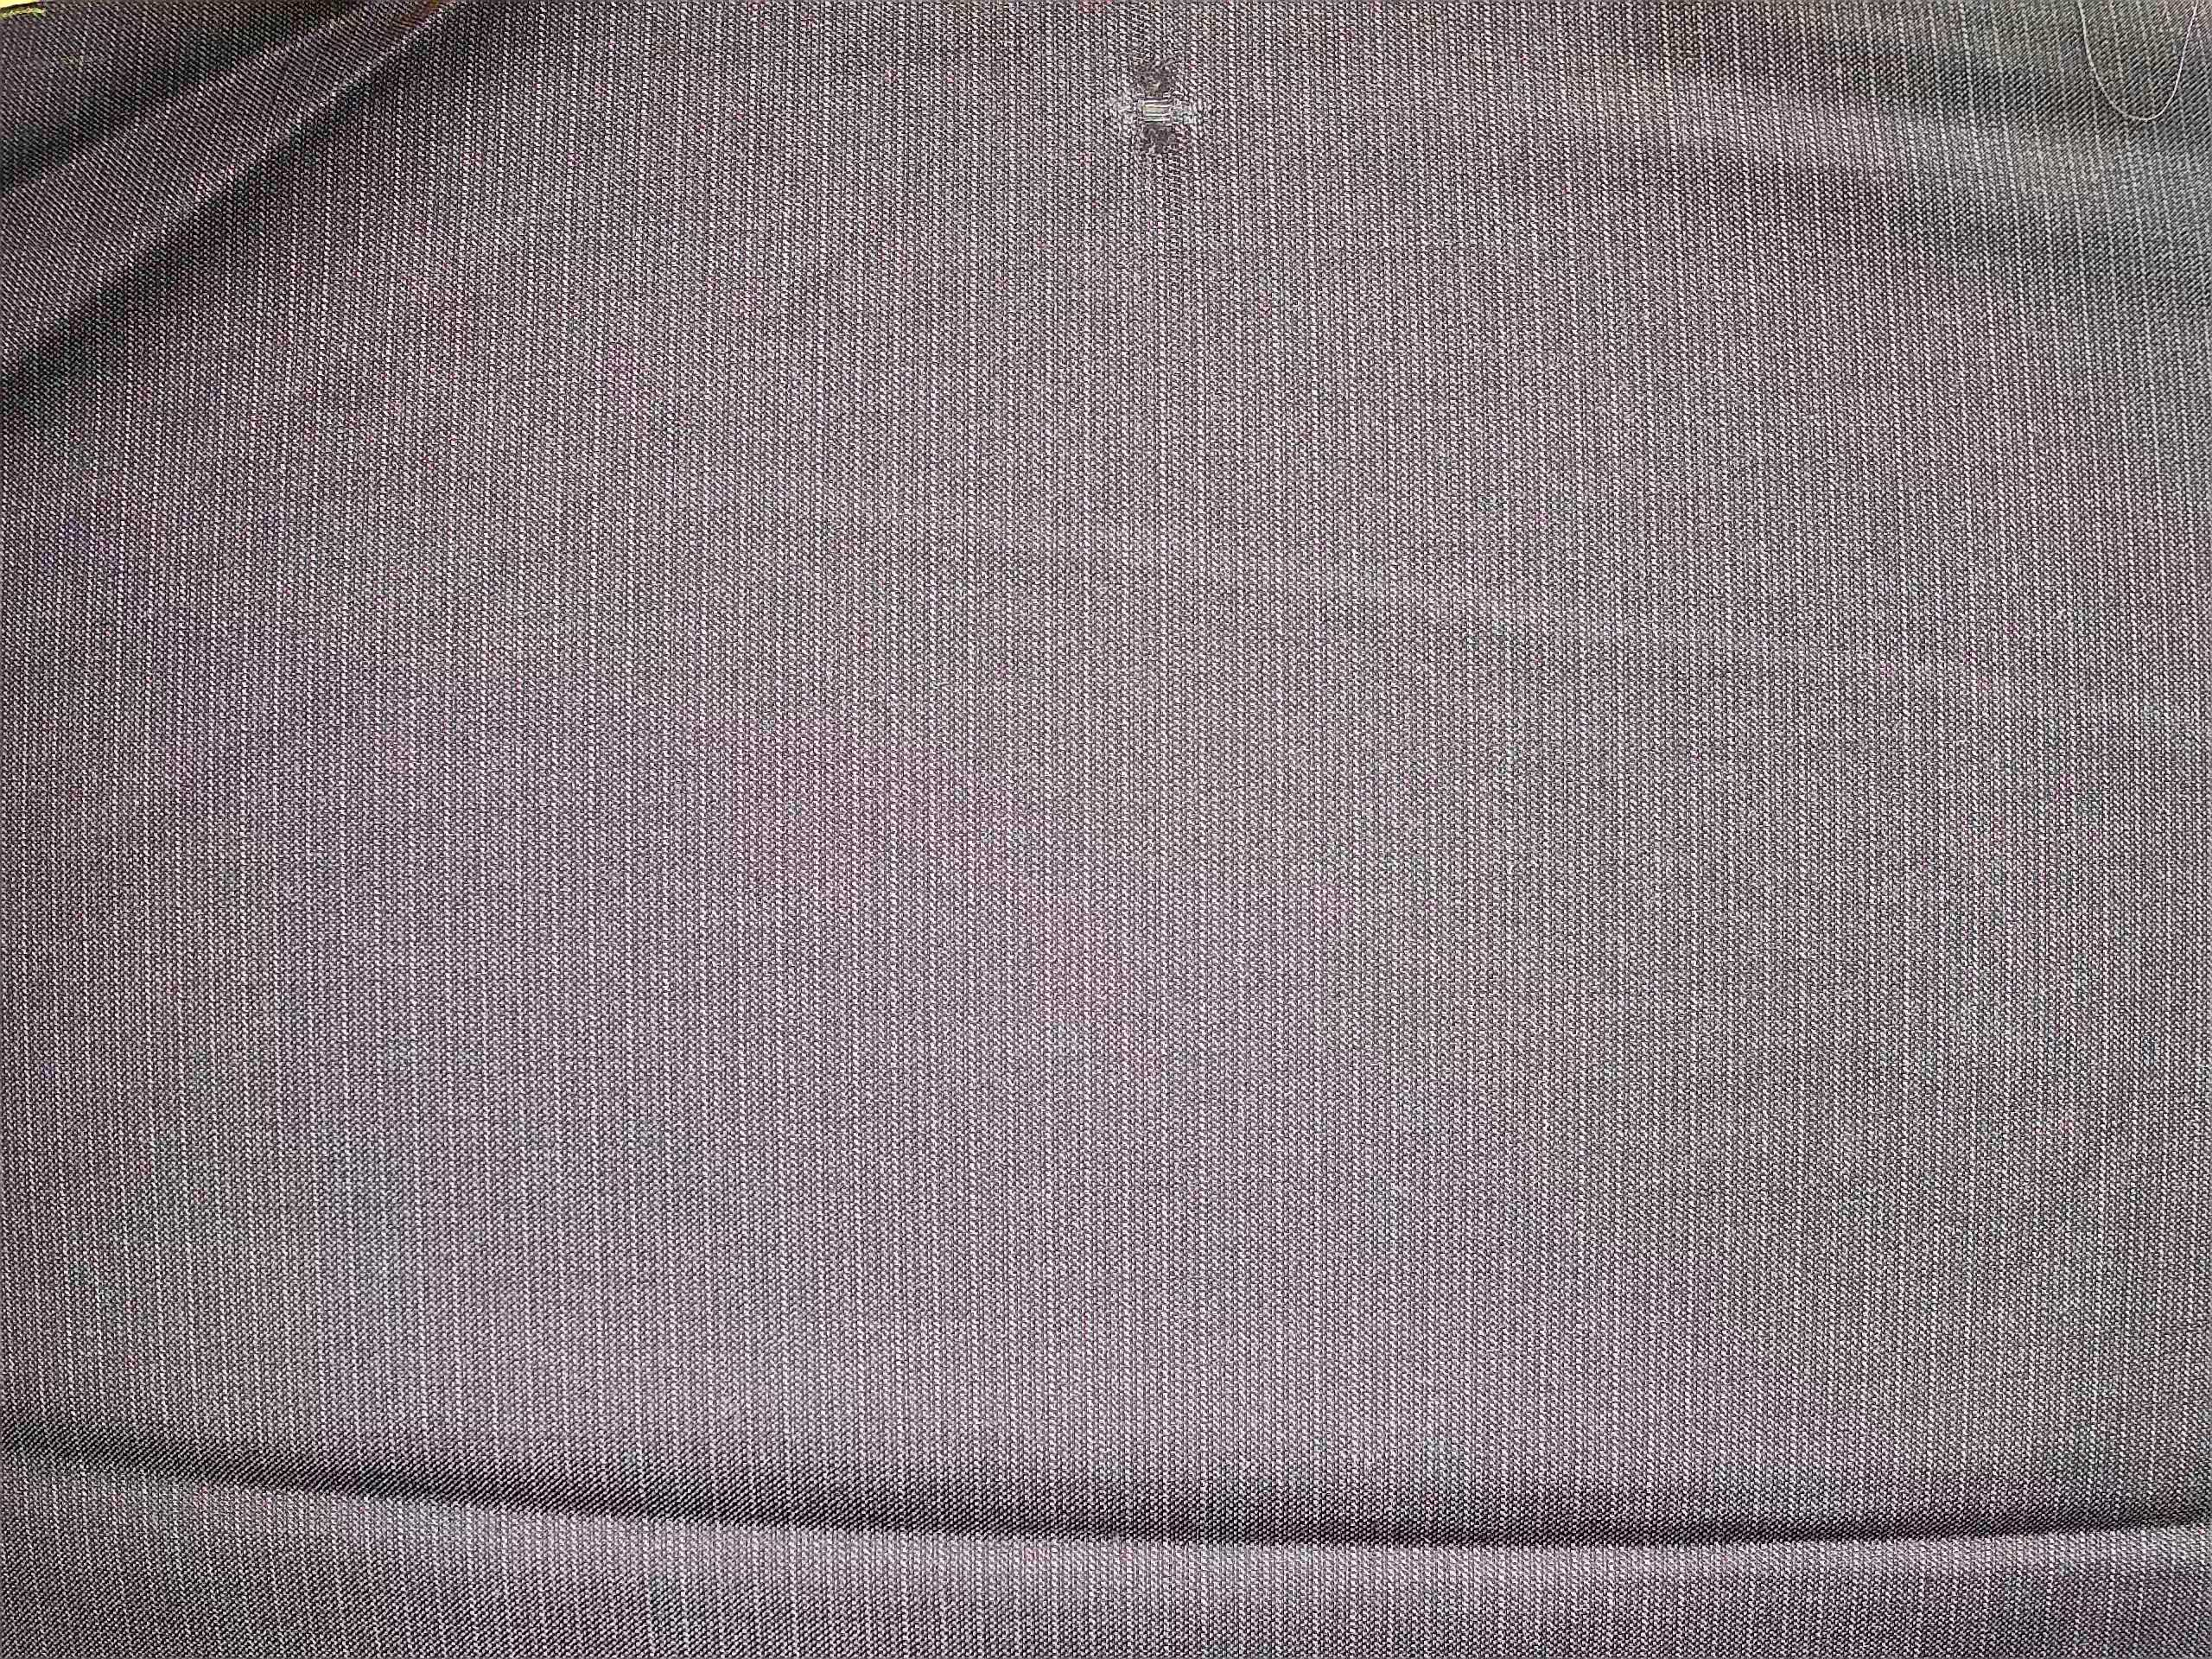rubbing-hole: (1089, 35, 1217, 171)
